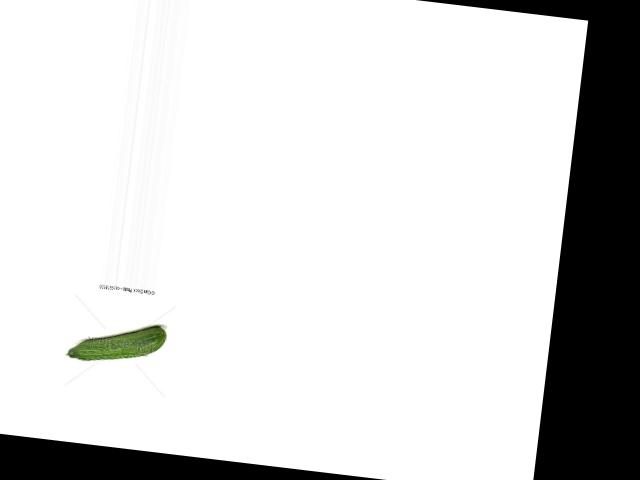cucumber: (65, 315, 166, 368)
